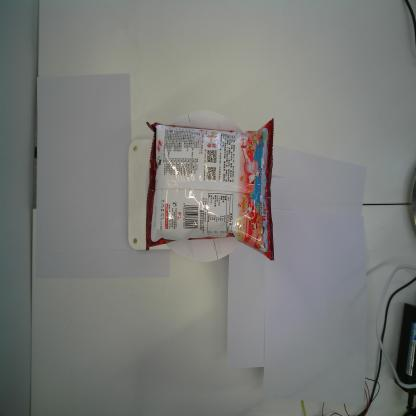Puffed Food: (146, 117, 275, 262)
